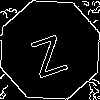Z: (25, 25, 69, 79)
